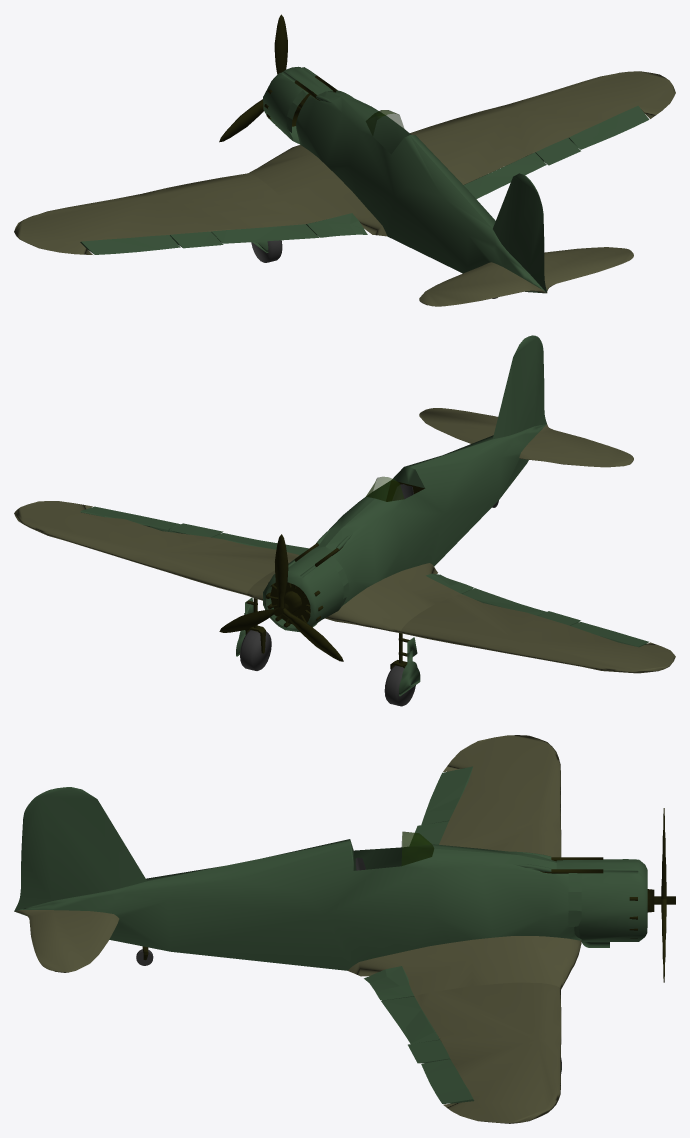
File: Airplane FIATG50.obj
3 views of the same model, one above another, from view 1: azimuth 30°, elevation 25°; view 2: azimuth 150°, elevation 25°; view 3: azimuth 270°, elevation 25° (orthographic). The views are drawn at different scales.
Visible parts, largest first — view 1: (null); view 2: (null); view 3: (null).
Part boxes in pixels (x1=…): (null): x1=14, y1=14, x2=675, y2=306; (null): x1=14, y1=335, x2=675, y2=706; (null): x1=14, y1=735, x2=675, y2=1123.
Bounding box in the file's own units: 30127 × 9253 × 21723.
